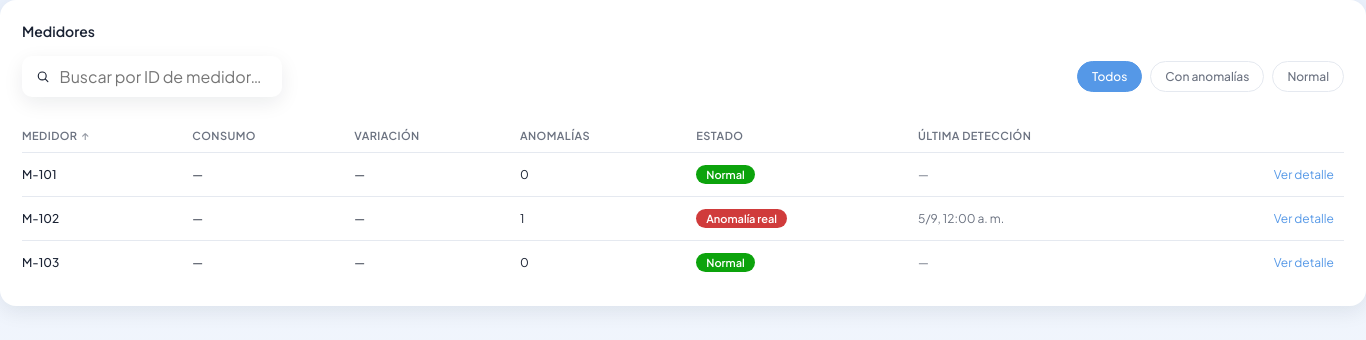
Test: MetersTable (desktop) › filters rows by the search box
Expected: the text "M-101" is shown, top-left (22, 152), bottom-right (192, 196)
Type "102" into the field with placeholder "Buscar por ID de medidor…". click: (163,76)
box: top-left (58, 65), bottom-right (268, 88)
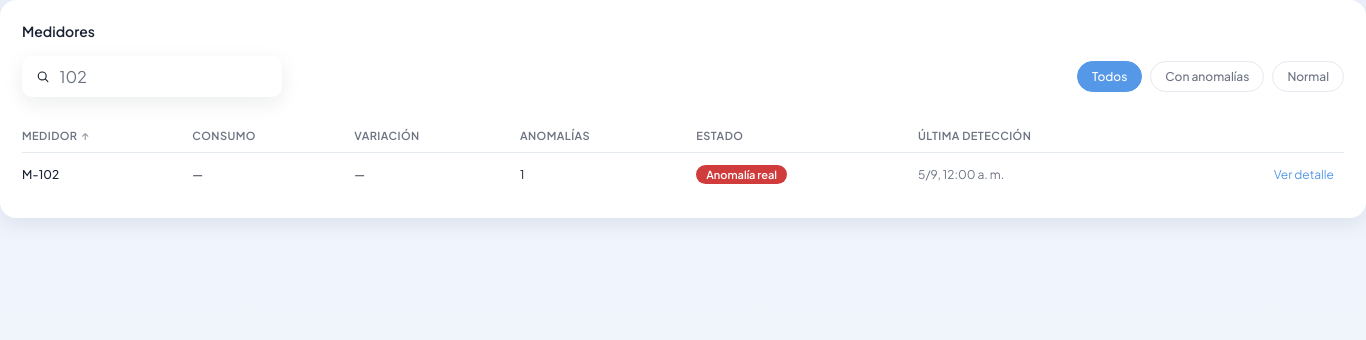
Expected: the text "M-102" is shown, top-left (22, 152), bottom-right (192, 196)
Expected: the text "M-101" is gone
